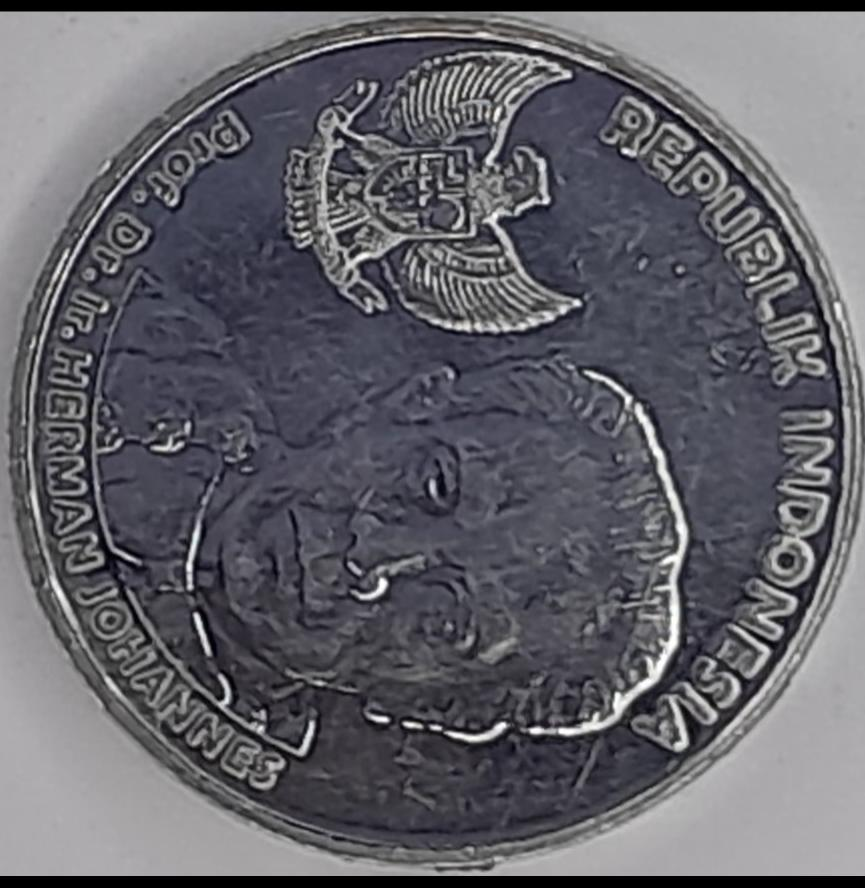coin_100_e2016: (1, 11, 864, 871)
